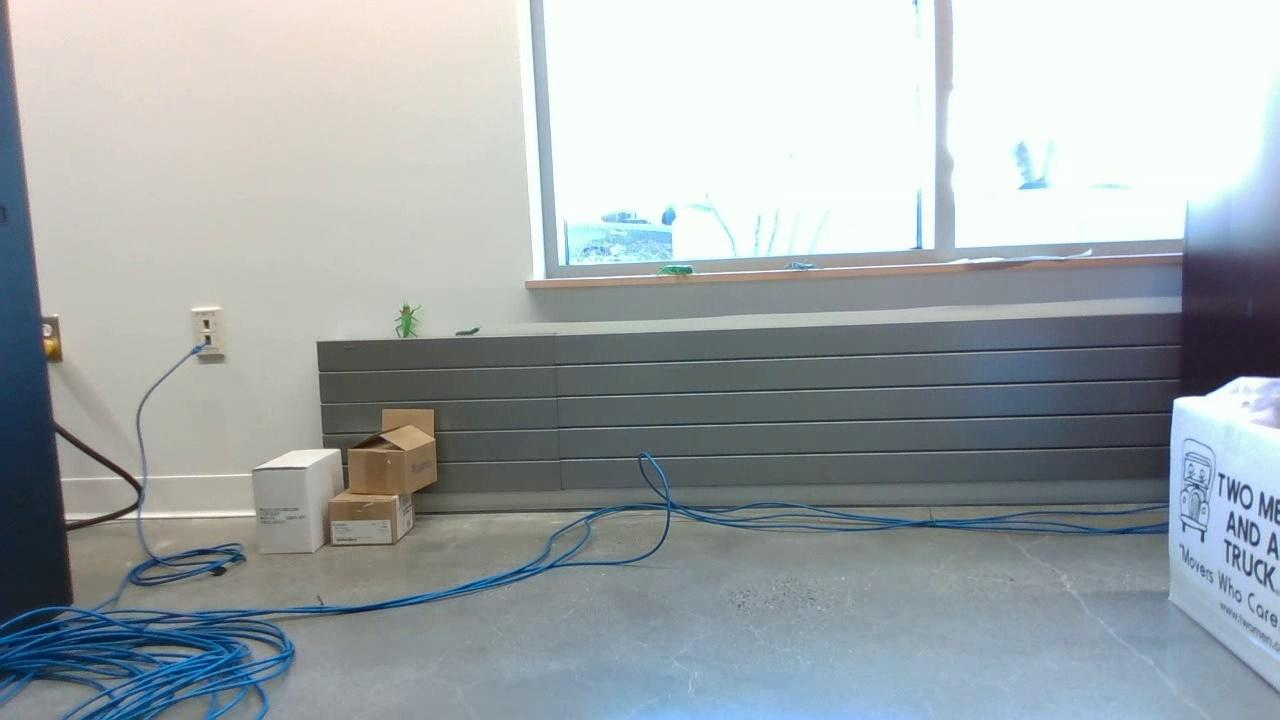grasshopper: (396, 303, 419, 337), (656, 266, 693, 278)
